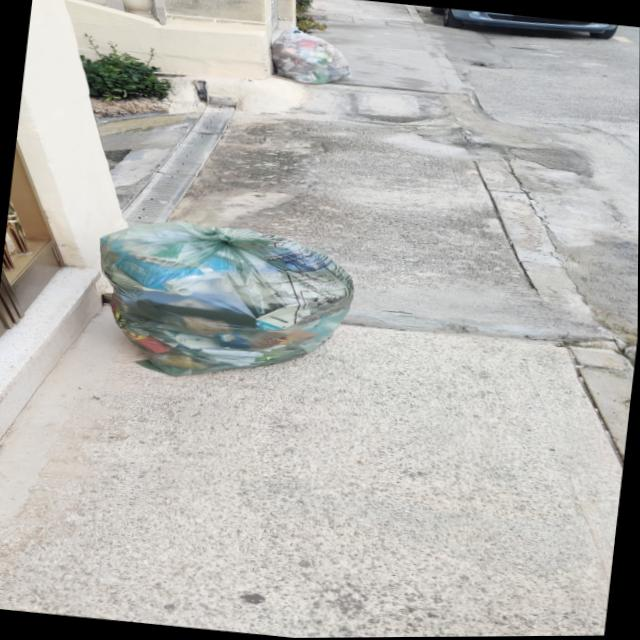Recyclable Material -Grey Bags-: (95, 225, 360, 375), (267, 29, 348, 87)
